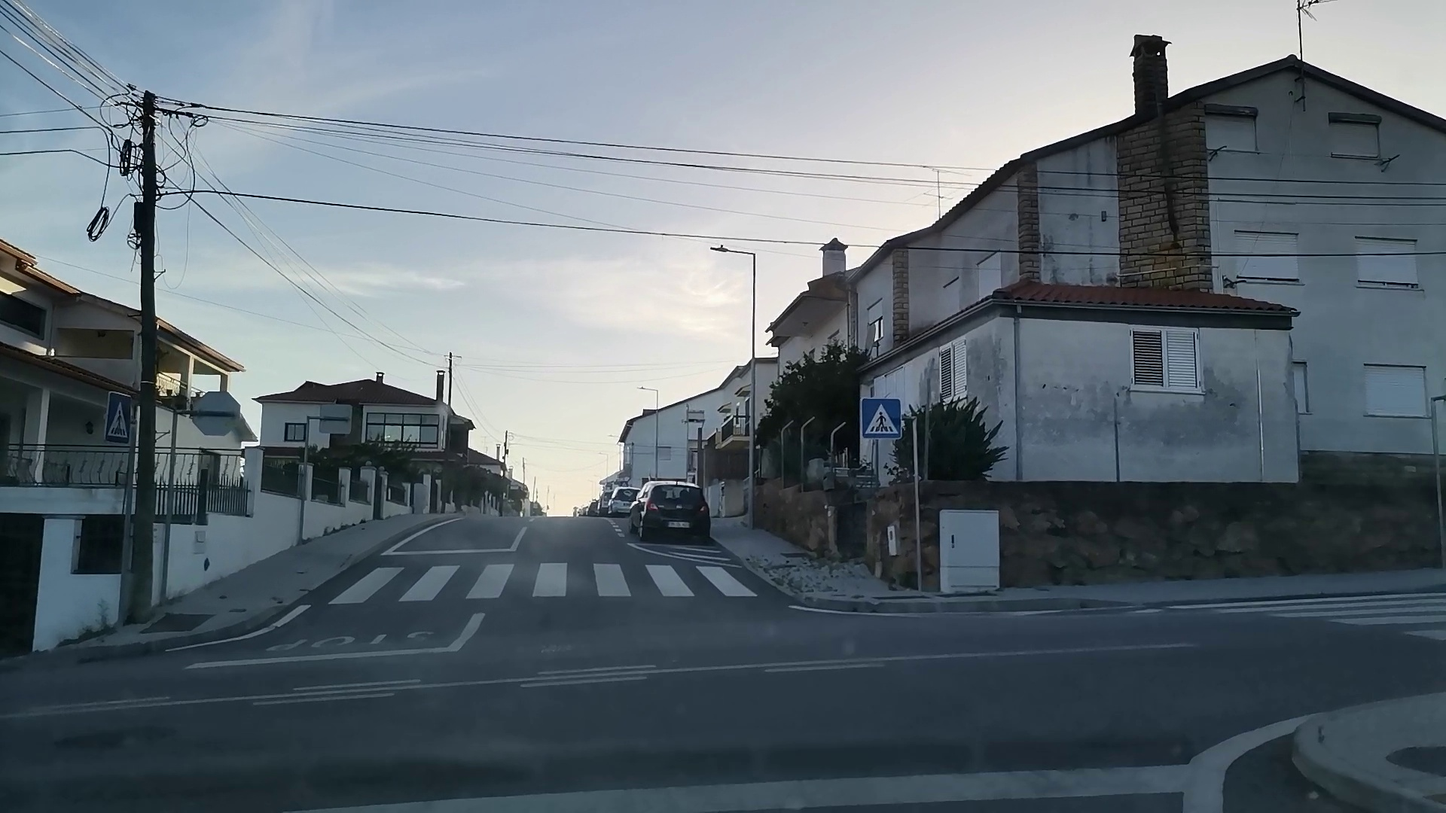Stairs: (350, 553, 762, 611)
